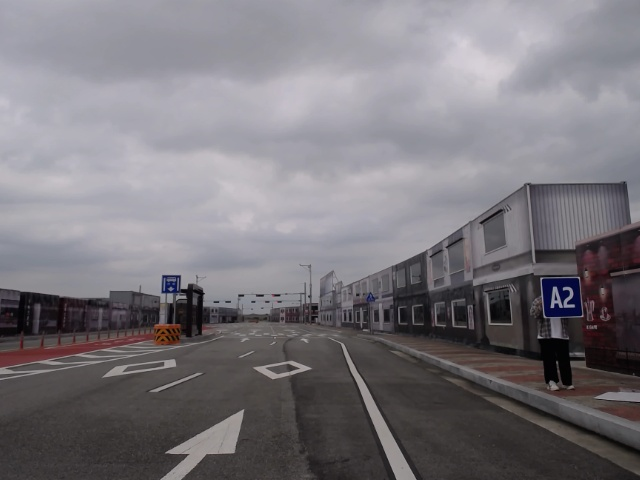delivery_a2: (540, 277, 583, 318)
